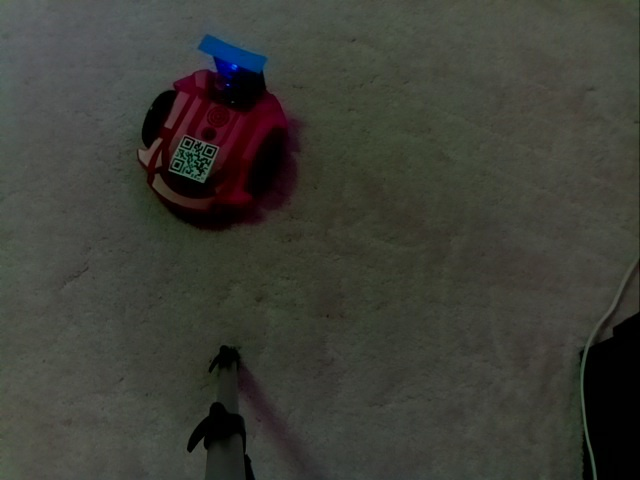board: (191, 23, 274, 100)
chassis: (137, 30, 291, 220)
